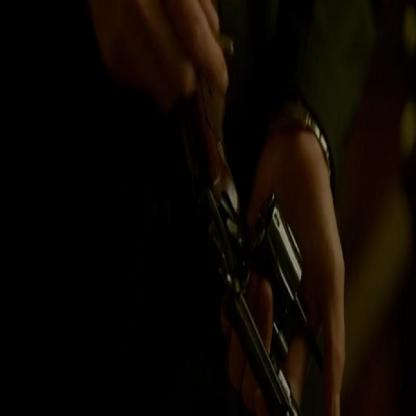Guns: (161, 22, 326, 414)
